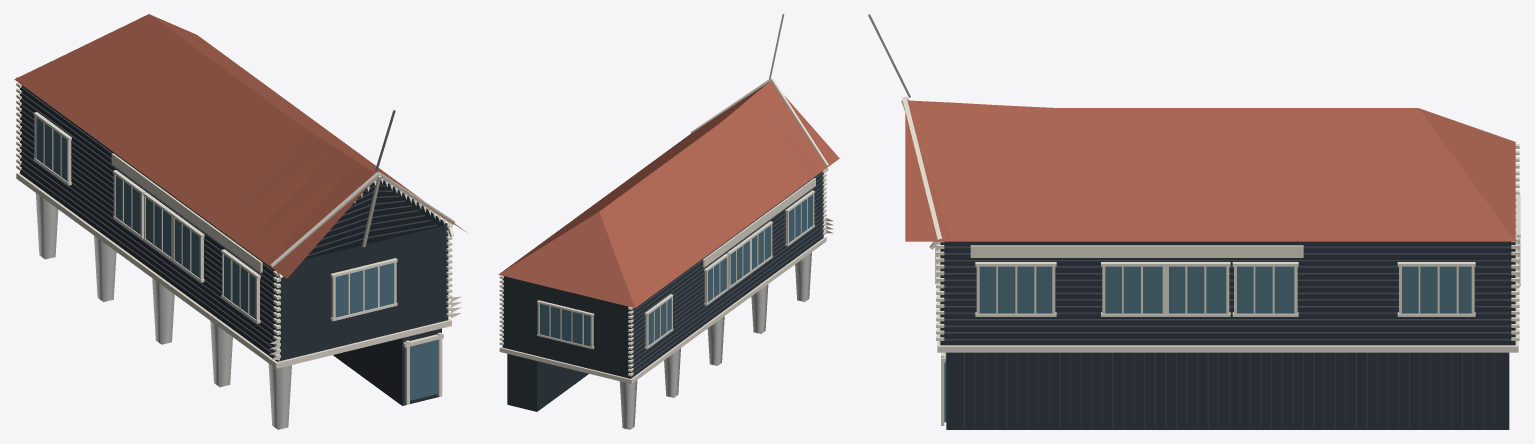
The model's file is naco-house.glb.
3 views of the same model, side by side, from view 1: azimuth 30°, elevation 25°; view 2: azimuth 150°, elevation 25°; view 3: azimuth 270°, elevation 25° (orthographic). The views are drawn at different scales.
Visible parts, largest first — view 1: naco-house; view 2: naco-house; view 3: naco-house.
Part boxes in pixels (x1=…): naco-house: x1=14, y1=14, x2=466, y2=429; naco-house: x1=498, y1=14, x2=839, y2=429; naco-house: x1=868, y1=14, x2=1520, y2=429.
Bounding box in the file's own units: 8.24 × 13.51 × 21.55.
